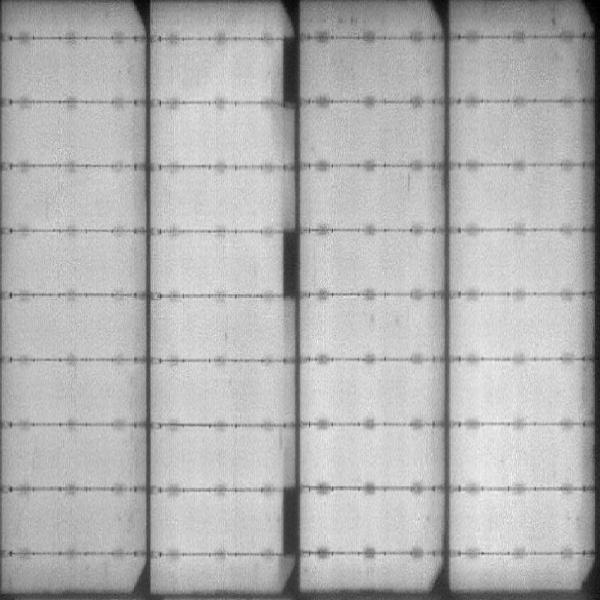black_border: (278, 37, 299, 115), (279, 487, 301, 558), (281, 226, 299, 301)
